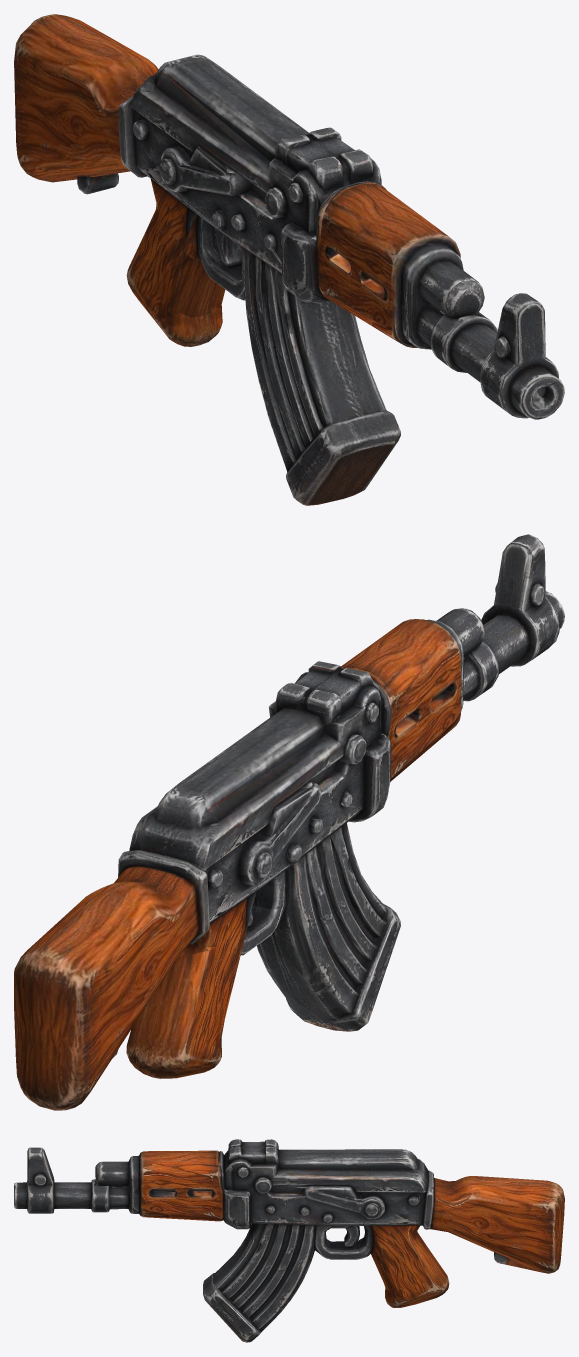
The model's file is gun_chopper.glb.
3 renders of one model, top to bottom at view 1: azimuth 30°, elevation 25°; view 2: azimuth 150°, elevation 25°; view 3: azimuth 270°, elevation 25°, orthographic. The views are drawn at different scales.
Size of the model in its own units: 0.1765 by 0.5752 by 1.5.
Materials: 1 (1 with a texture image).
